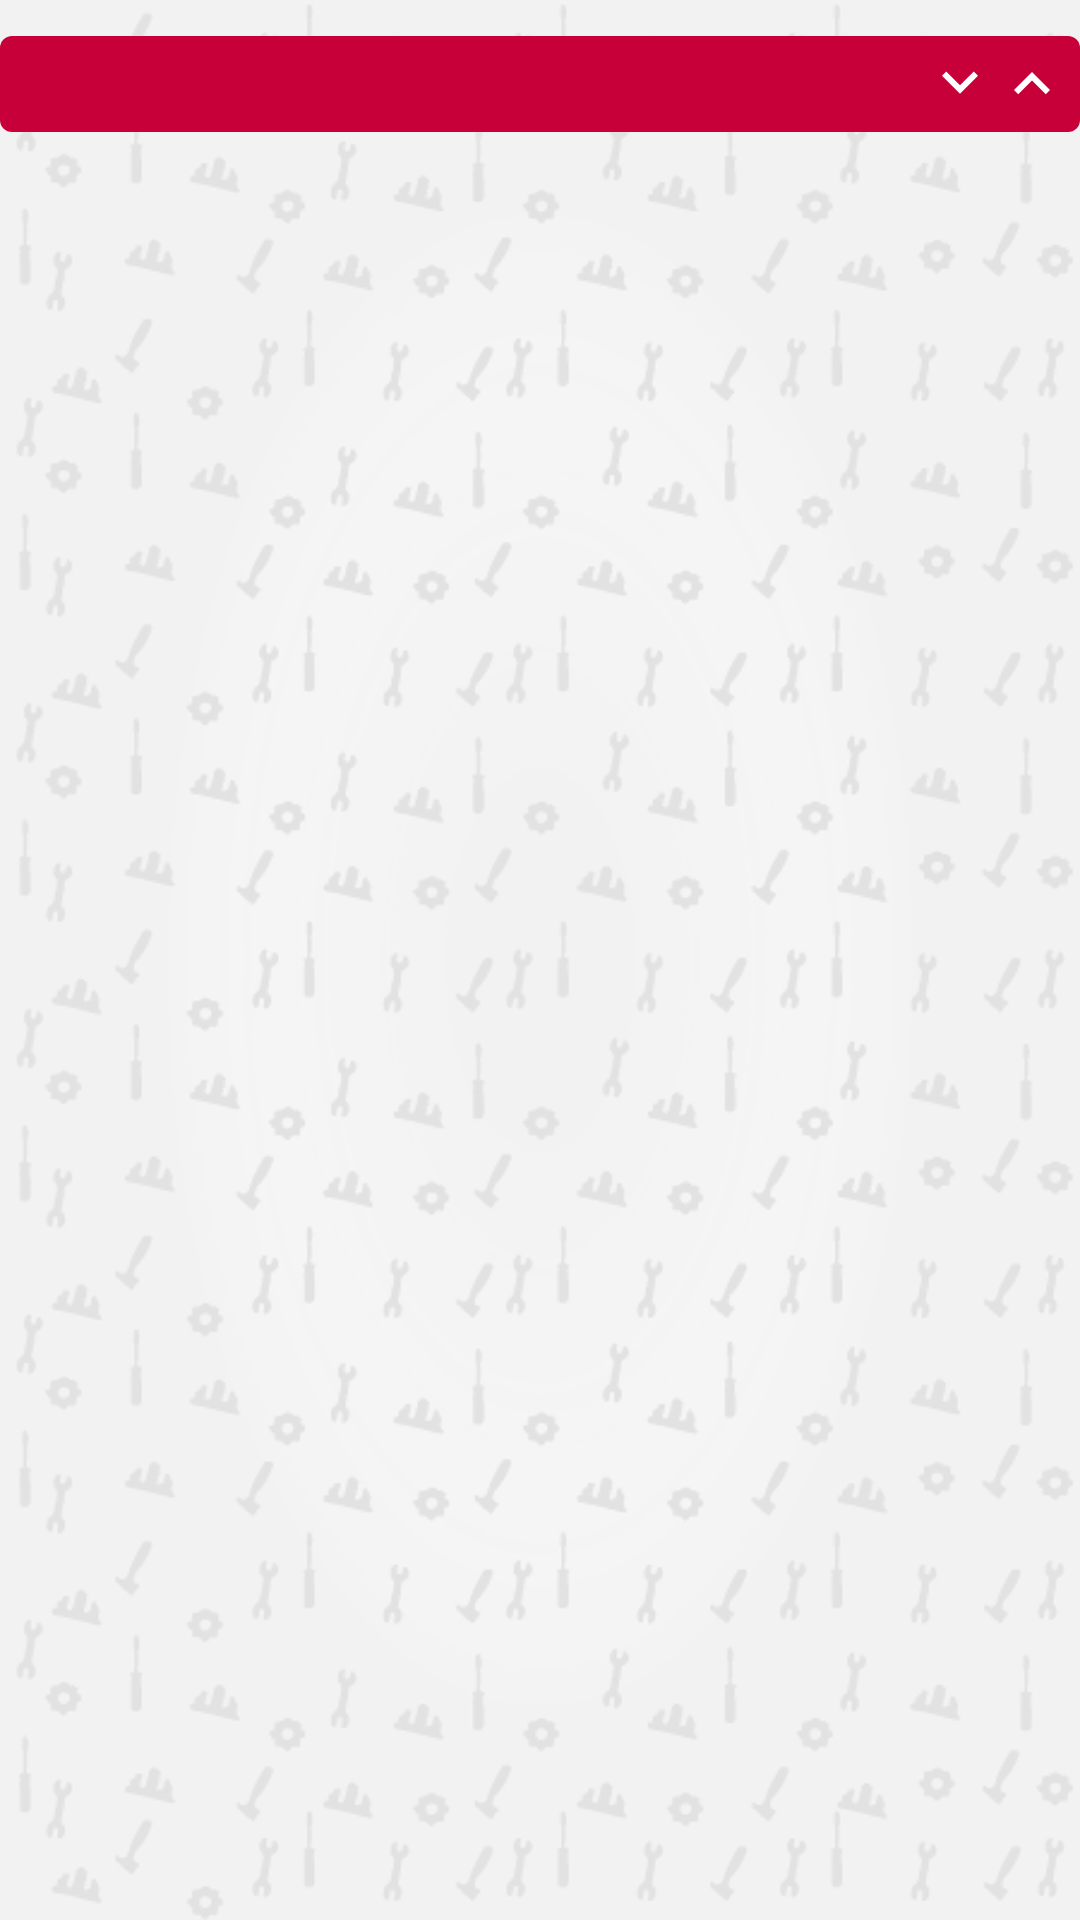

Point at icon controls on the screen. Image size 1080px×1920px, points as [x,y].
keyboard arrow down: [960,82]
keyboard arrow up: [1032,83]
